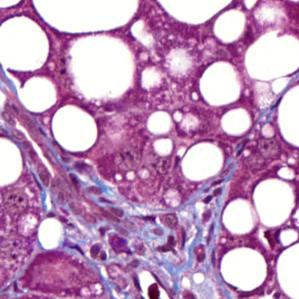steatosis: (176, 137, 225, 186), (50, 107, 99, 154), (196, 59, 242, 108)
